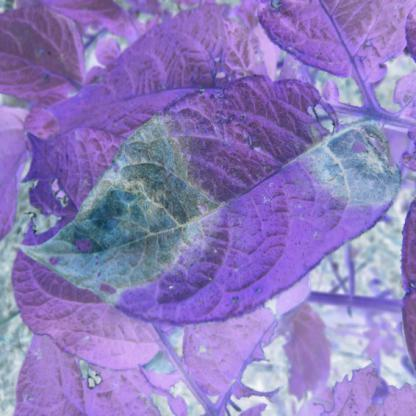Potato leaf late blight: (21, 74, 402, 330)
